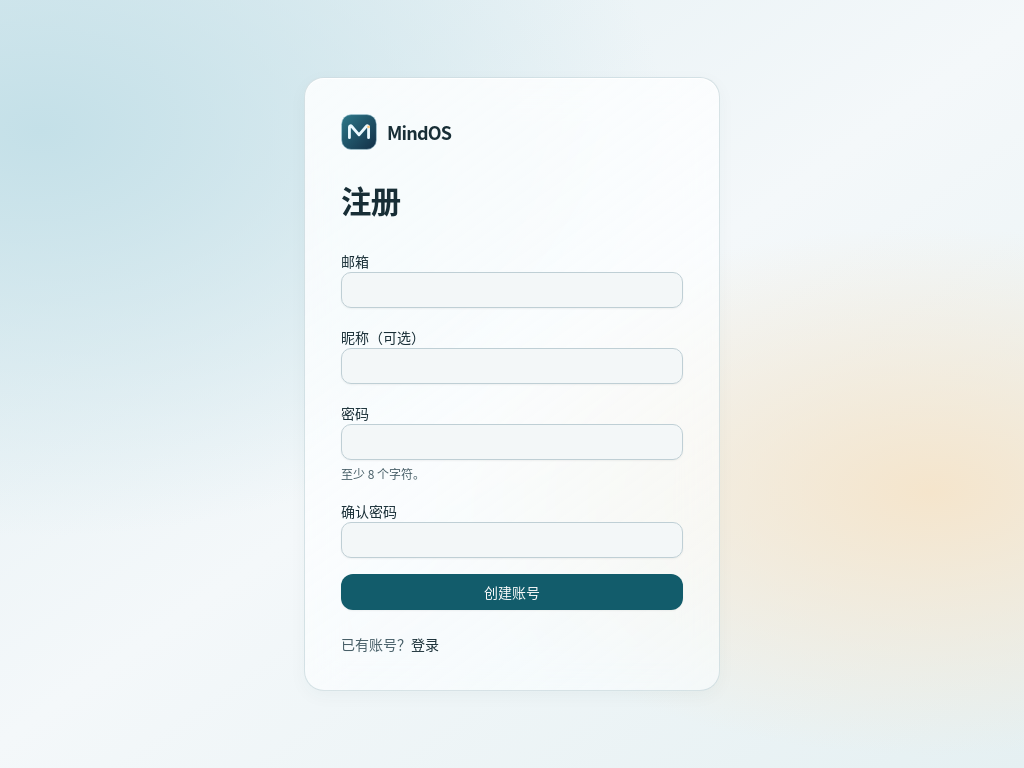
Test: 登录、注册与路由守卫 › 注册成功即登录并进入应用
The image size is (1024, 768).
Type "alice@example.com" into the field labelled "邮箱" at coordinates (512, 290), box [341,272,683,308]
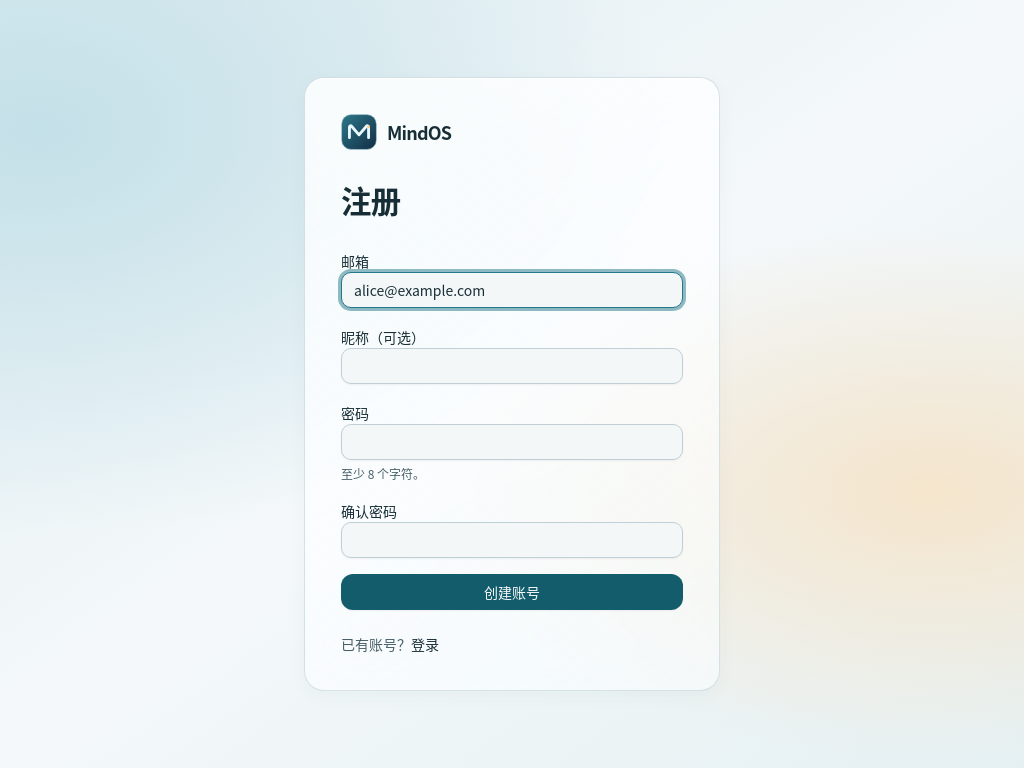
Type "password-123" into the password field labelled "密码" at coordinates (512, 442), box [341,424,683,460]
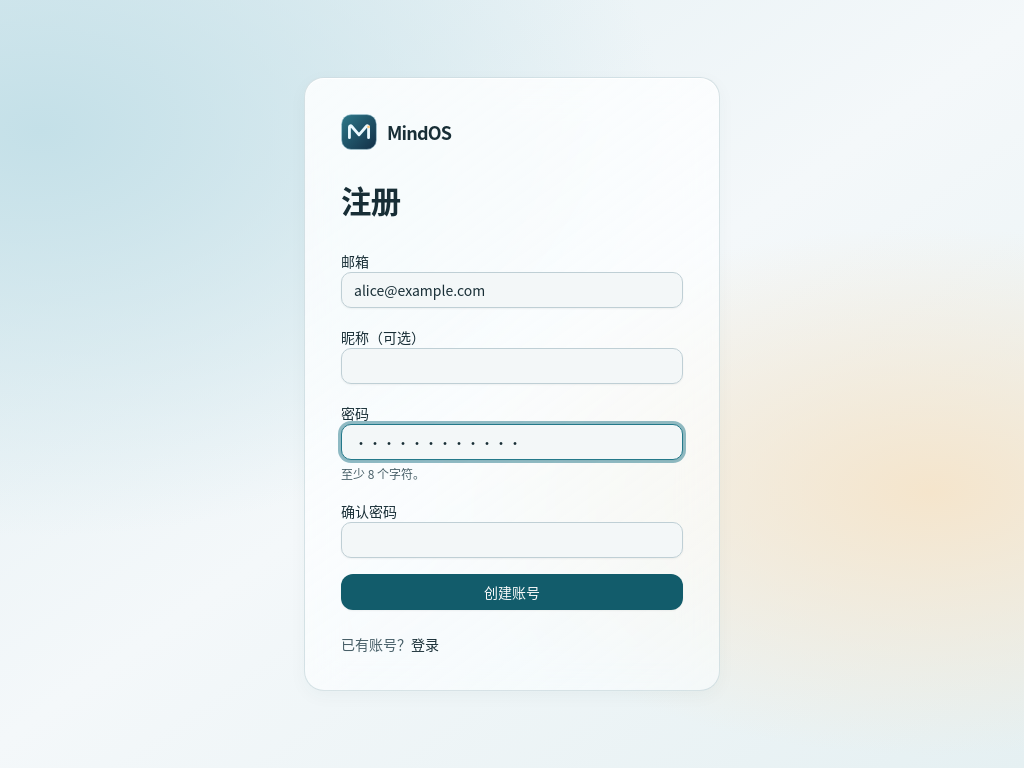
Type "password-123" into the password field labelled "确认密码" at coordinates (512, 540), box [341,522,683,558]
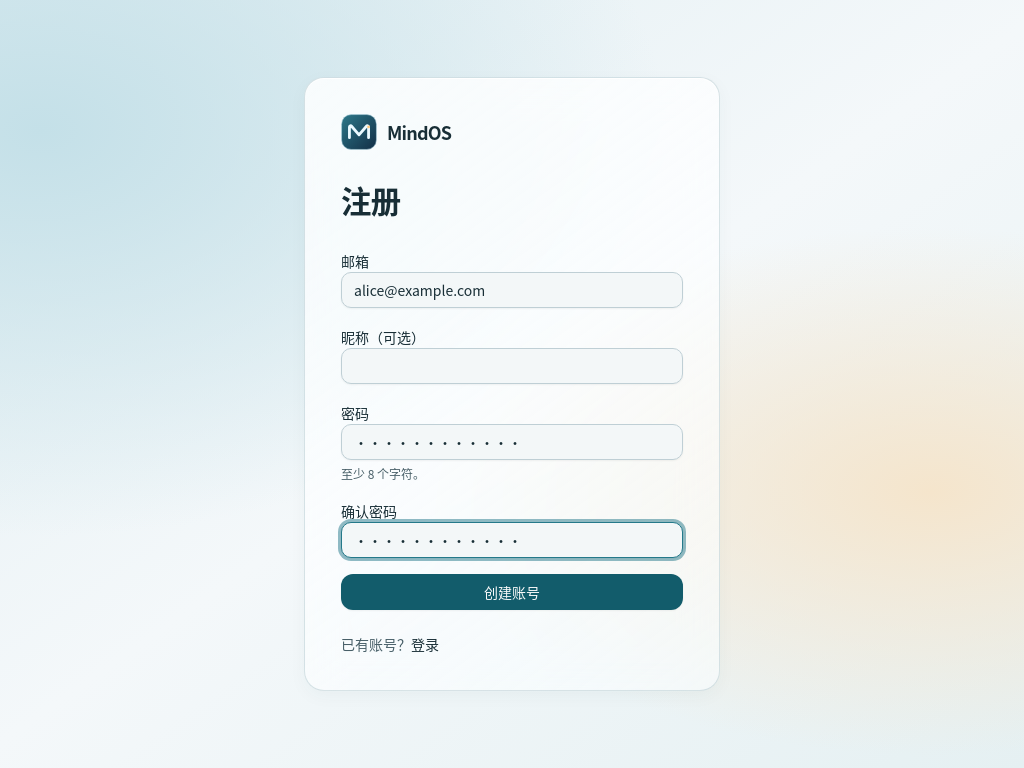
Click the button "创建账号" at coordinates (512, 592), box [341,574,683,610]
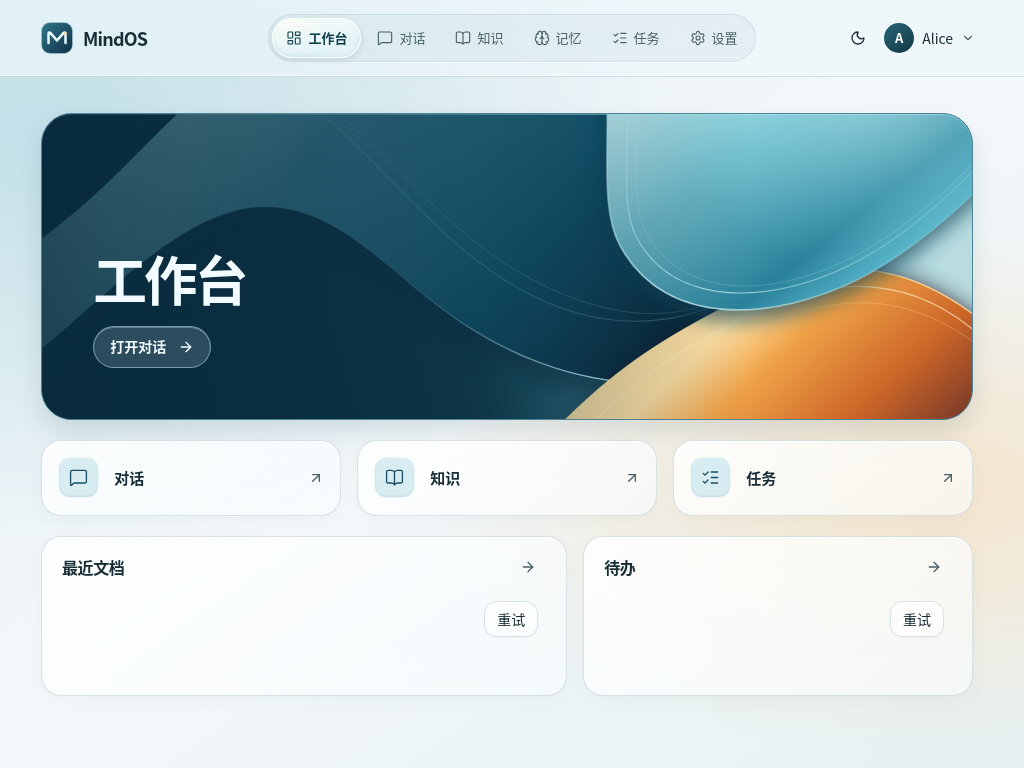
Now the heading "工作台" is shown, box [93,249,246,306]
